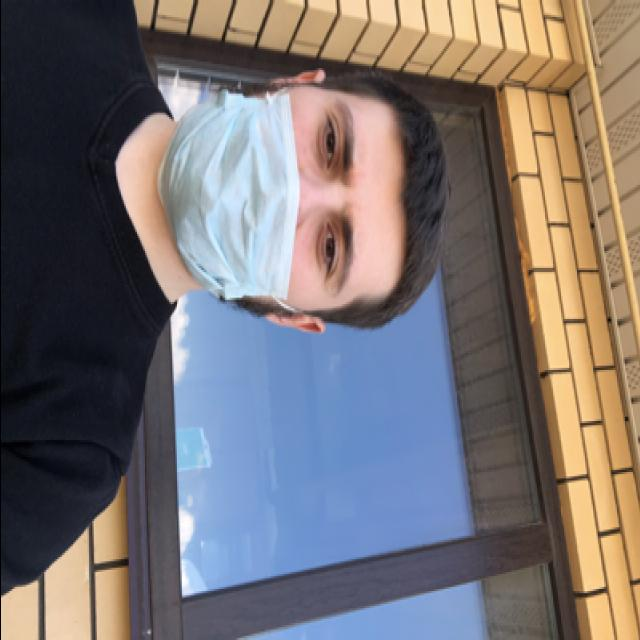mask: (156, 92, 374, 310)
